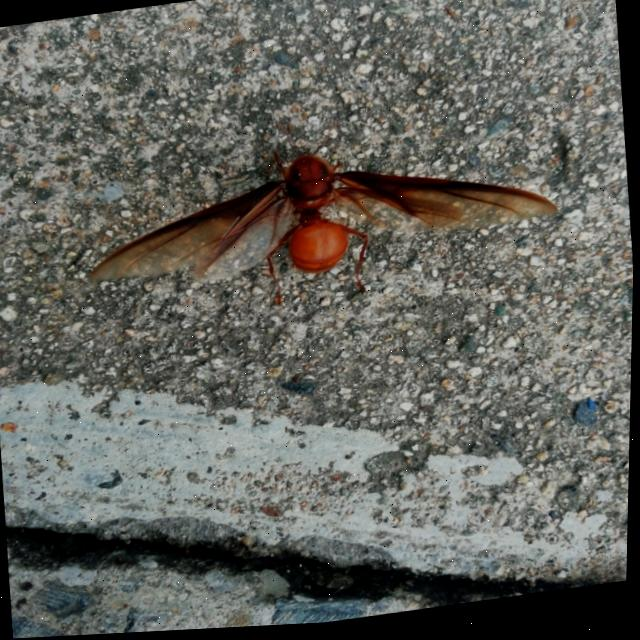Alive-Male-Alate: (76, 86, 567, 333)
